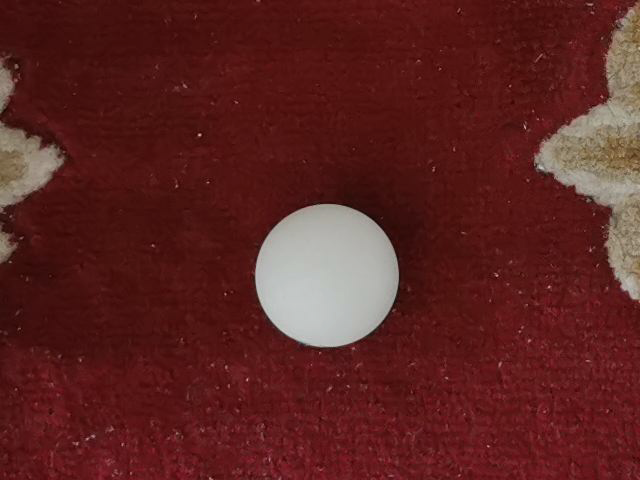ball: (255, 202, 401, 347)
